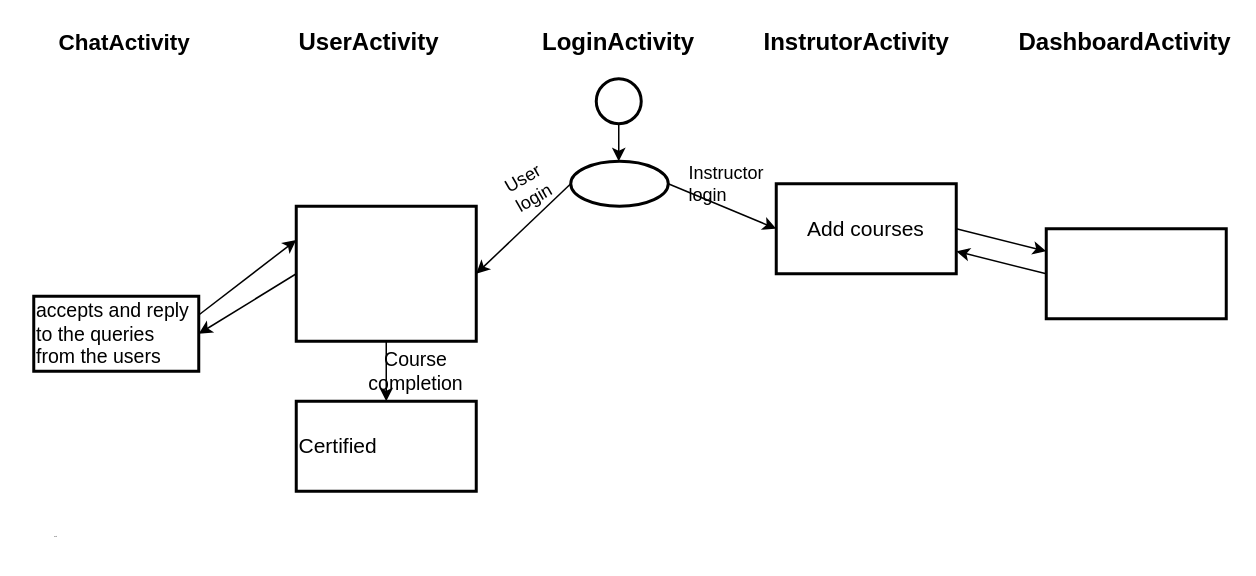
This 1256x576 diagram has some shape labels left out. Here are the shapes that lost their labels. From the top down, the box of each, then its label:
(294, 204, 477, 342): View tasks Enroll courses post in forums post in
(1044, 226, 1227, 320): View active users
